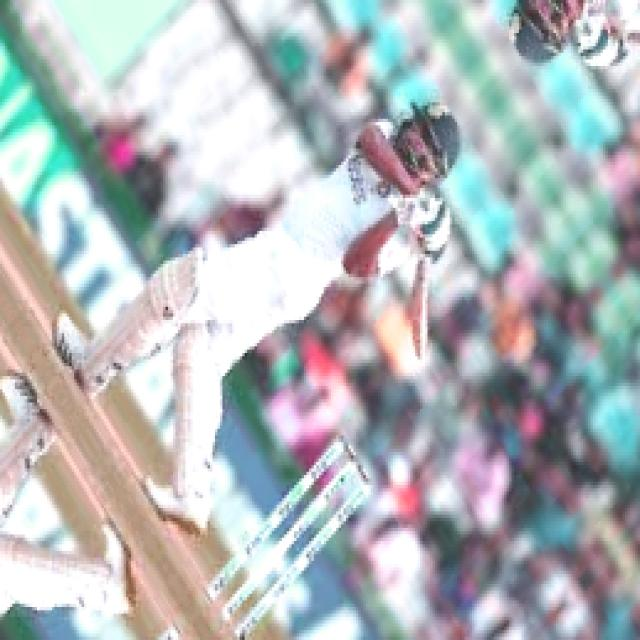toe: (413, 317, 430, 366)
